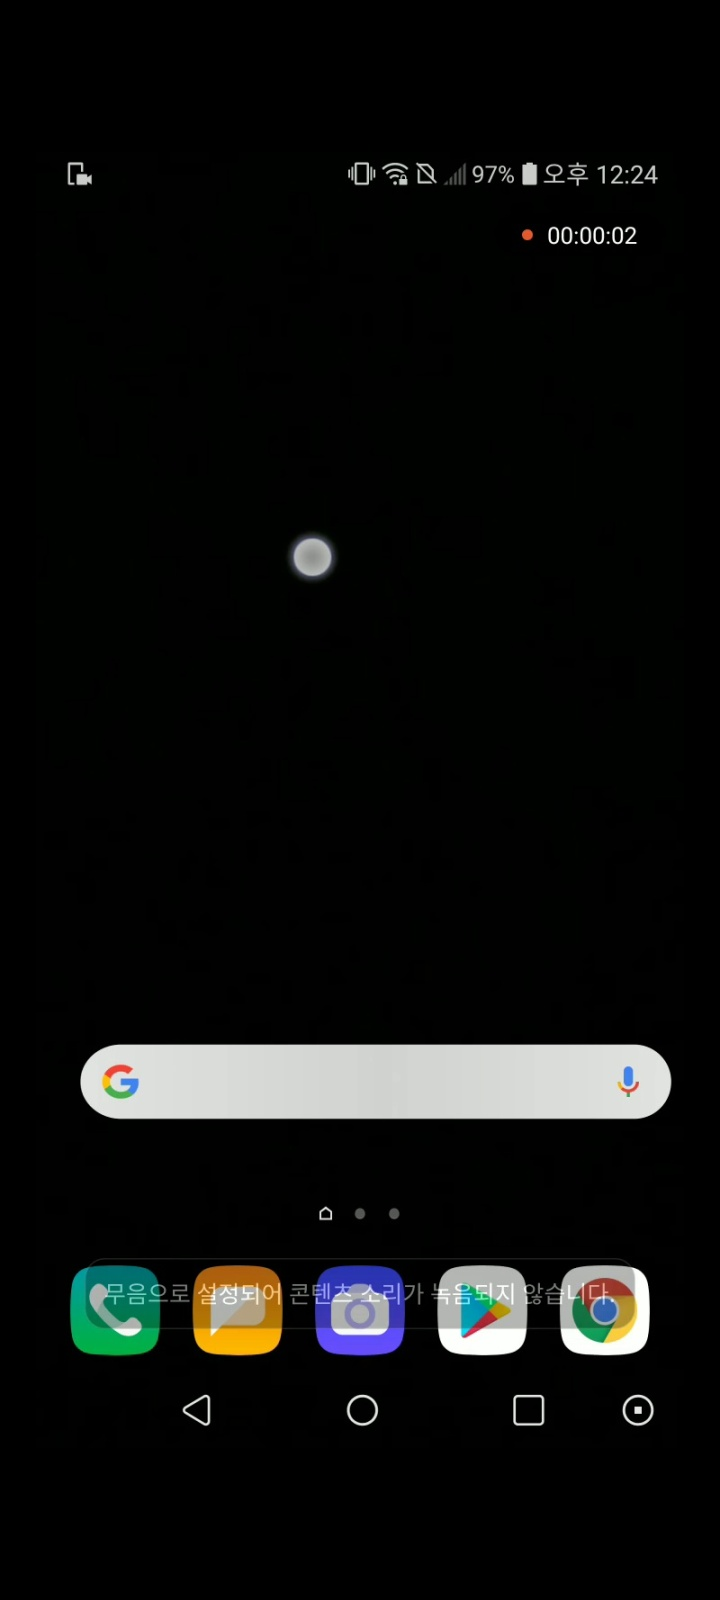Cursor: (290, 536, 335, 581)
